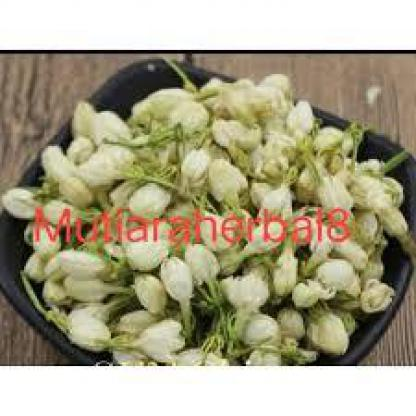Melati: (16, 90, 371, 350)
